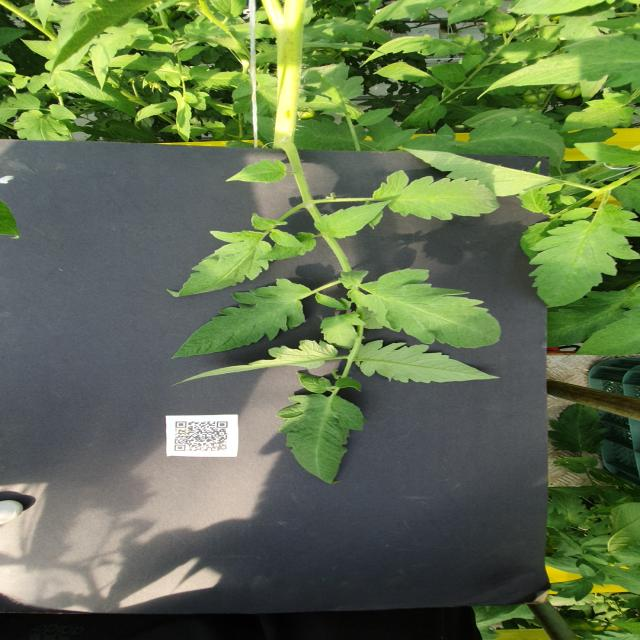Healthy Leaf: (170, 279, 313, 360), (529, 205, 640, 309), (361, 269, 503, 350), (478, 33, 640, 101), (402, 117, 567, 169), (398, 147, 564, 198), (275, 395, 365, 486), (173, 340, 340, 387), (167, 232, 273, 299), (373, 171, 501, 222), (357, 341, 500, 384), (54, 70, 139, 119), (361, 37, 467, 70), (366, 1, 462, 37), (558, 95, 636, 135), (315, 201, 392, 240), (108, 53, 190, 82), (255, 232, 317, 263), (521, 219, 565, 261), (402, 95, 448, 135), (373, 62, 442, 88), (321, 313, 368, 351), (501, 38, 562, 65), (226, 159, 289, 185), (169, 91, 200, 143), (576, 142, 640, 167), (191, 66, 251, 89), (134, 101, 178, 130), (378, 129, 422, 152), (518, 188, 555, 215), (293, 373, 333, 394), (427, 63, 468, 83), (358, 107, 397, 128), (270, 230, 307, 249), (252, 214, 290, 232), (339, 270, 371, 290), (556, 207, 596, 223), (317, 294, 346, 311), (337, 378, 364, 393)
